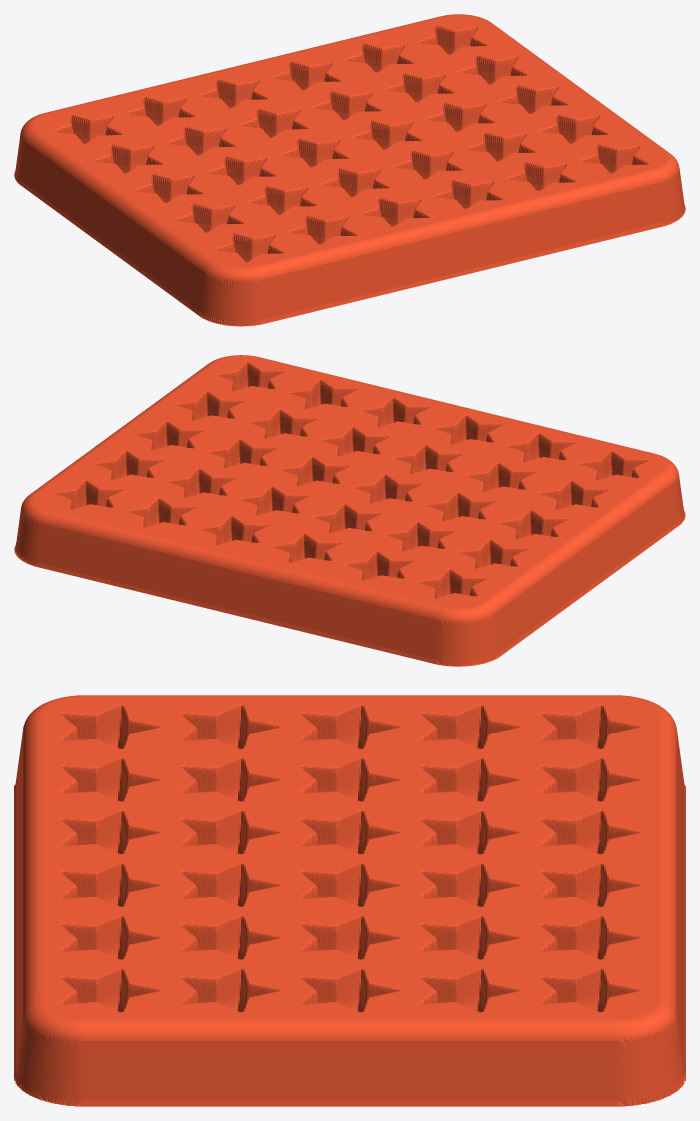
The model's file is mold.glb.
3 views of the same model, one above another, from view 1: azimuth 30°, elevation 25°; view 2: azimuth 150°, elevation 25°; view 3: azimuth 270°, elevation 25° (orthographic). The views are drawn at different scales.
Visible parts, largest first — view 1: geometry_0; view 2: geometry_0; view 3: geometry_0.
Part boxes in pixels (x1,y1,x2,y2): geometry_0: (14, 14, 685, 326); geometry_0: (14, 355, 685, 666); geometry_0: (14, 695, 685, 1106).
Bounding box in the file's own units: 0.104 × 0.0105 × 0.0852.
